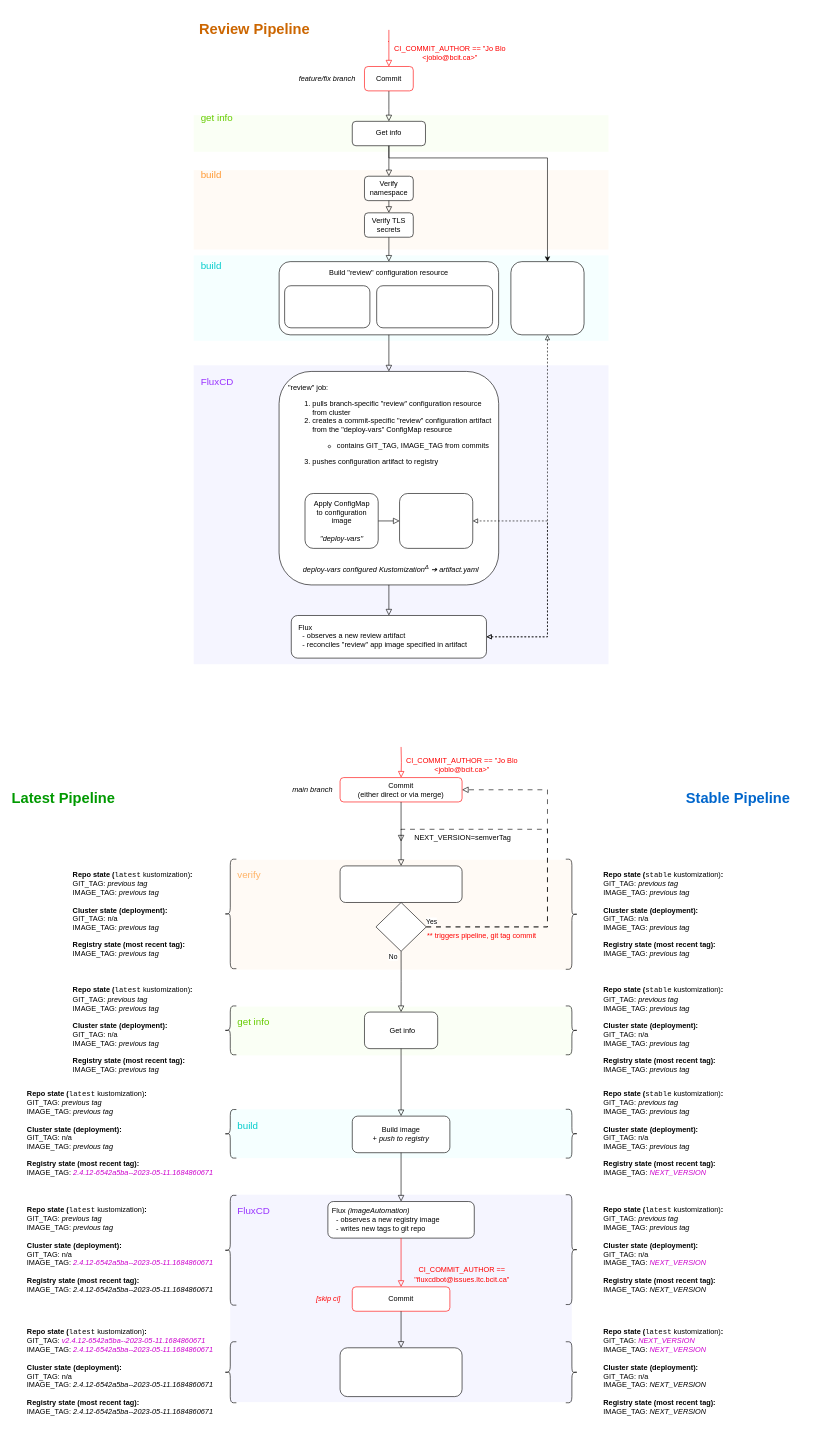
This 814x1432 diagram has some shape labels left out. The shapes that lost their labels are listed below. From the top down, each one's centre as x and y in pixels, then its label:
(327,306): Create registry "watch" resource OCIRepository
(434,306): Create branch-specific cluster configuration resource Kustomization
(547,298): Build app image + push to registry
(436,520): Push configured artifact to image registry artifact.yaml
(400,883): Determine version (semantic-release)
(400,926): new semver tag?
(400,1372): Flux - observes git repo change - reconciles workload
